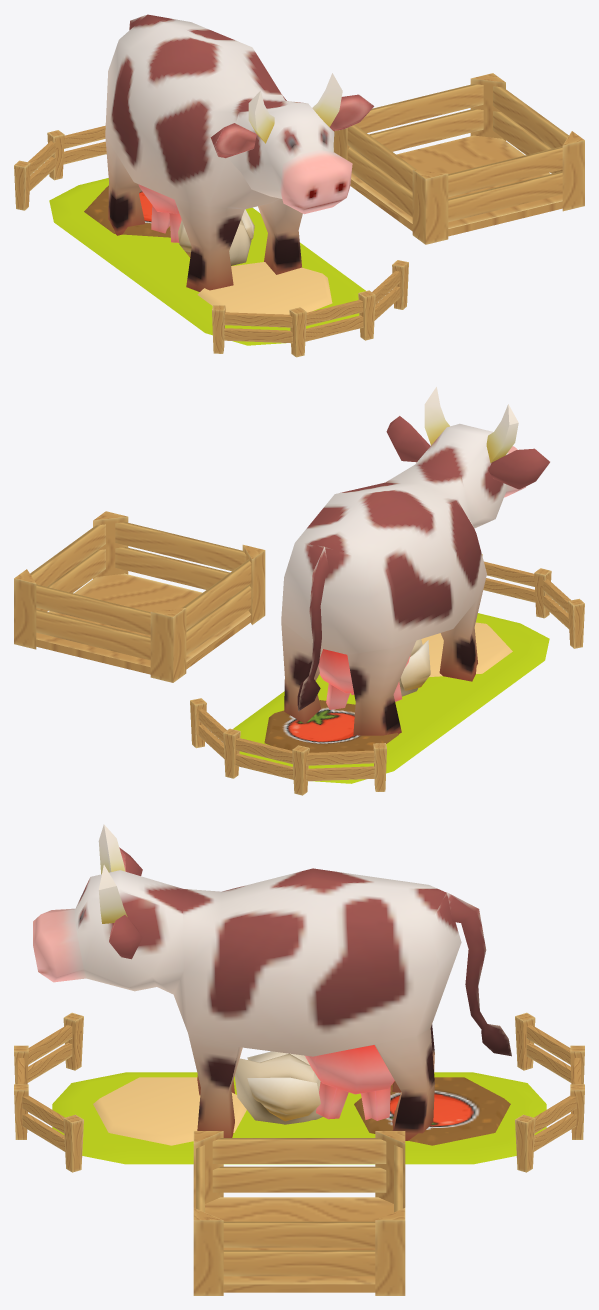
Rendered from animals.glb.
3 renders of one model, top to bottom at view 1: azimuth 30°, elevation 25°; view 2: azimuth 150°, elevation 25°; view 3: azimuth 270°, elevation 25°, orthographic. The views are drawn at different scales.
Parts seen in each view (by area): view 1: cow_mod, cow_tray_mod, chicken_field, chicken_mod; view 2: cow_mod, cow_tray_mod, chicken_field, chicken_mod; view 3: cow_mod, chicken_field, cow_tray_mod, chicken_mod.
Boxes of the visible parts, x1,y1,x2,y2 form: cow_mod: (105, 14, 374, 291); cow_tray_mod: (333, 73, 584, 244); chicken_field: (14, 125, 408, 357); chicken_mod: (178, 209, 254, 265); cow_mod: (281, 387, 549, 735); cow_tray_mod: (14, 511, 265, 682); chicken_field: (190, 554, 584, 795); chicken_mod: (399, 639, 430, 696); cow_mod: (33, 824, 511, 1140); chicken_field: (14, 1012, 584, 1172); cow_tray_mod: (193, 1131, 405, 1295); chicken_mod: (234, 1051, 322, 1124).
Size of what is drawn, in the model's own units: 5.08 by 2.72 by 5.13.
1 material, 1 textured.
